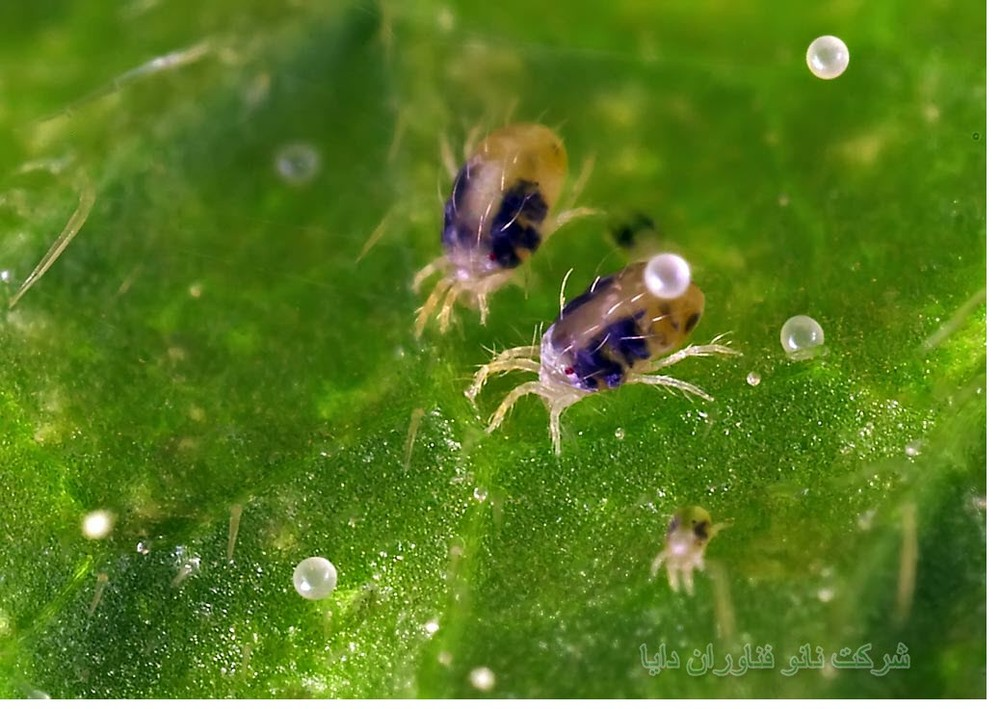Aracnido Rojo: (392, 104, 606, 344), (465, 260, 739, 445), (649, 496, 735, 597)
